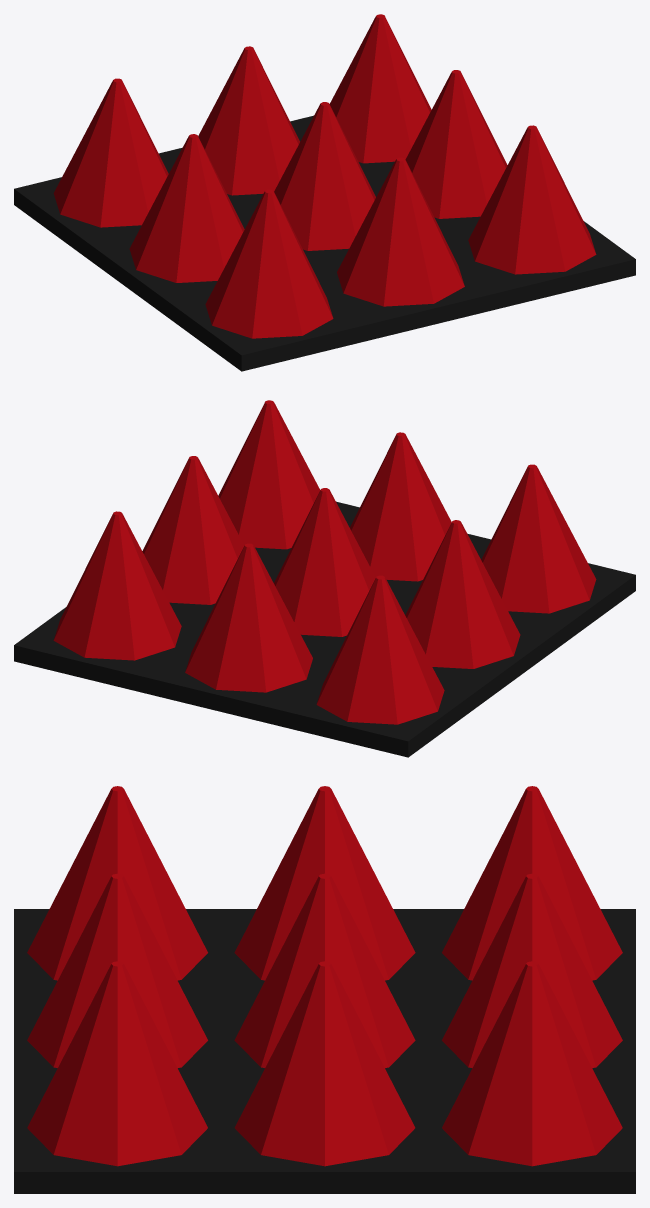
Rendered from spike.fbx.
3 renders of one model, top to bottom at view 1: azimuth 30°, elevation 25°; view 2: azimuth 150°, elevation 25°; view 3: azimuth 270°, elevation 25°, orthographic. The views are drawn at different scales.
Visible parts, largest first — view 1: Cylinder.007, Cylinder.008, Cylinder.006, Cylinder.003, Cylinder, Cylinder.005, Cylinder.004, Cylinder.001, Cylinder.002, Cube.006, Cube.008, Cube.007 (+6 smaller); view 2: Cylinder.001, Cylinder.002, Cylinder, Cylinder.003, Cylinder.006, Cylinder.005, Cylinder.004, Cylinder.007, Cylinder.008, Cube, Cube.002, Cube.001 (+6 smaller); view 3: Cylinder.005, Cylinder.002, Cylinder.008, Cylinder.001, Cylinder.007, Cylinder, Cylinder.006, Cylinder.003, Cylinder.004, Cube.005, Cube.002, Cube.008 (+6 smaller).
Boxes of the visible parts, bbox=[...] form: Cylinder.007: bbox=[337, 157, 464, 306]; Cylinder.008: bbox=[468, 125, 596, 274]; Cylinder.006: bbox=[205, 189, 333, 338]; Cylinder.003: bbox=[129, 134, 244, 282]; Cylinder: bbox=[53, 78, 168, 227]; Cylinder.005: bbox=[405, 70, 507, 218]; Cylinder.004: bbox=[274, 102, 375, 250]; Cylinder.001: bbox=[198, 46, 299, 195]; Cylinder.002: bbox=[329, 14, 431, 163]; Cube.006: bbox=[165, 285, 372, 371]; Cube.008: bbox=[442, 221, 635, 307]; Cube.007: bbox=[311, 253, 504, 339]; Cylinder.001: bbox=[185, 543, 312, 692]; Cylinder.002: bbox=[53, 511, 181, 660]; Cylinder: bbox=[316, 575, 444, 724]; Cylinder.003: bbox=[405, 520, 520, 668]; Cylinder.006: bbox=[481, 464, 596, 613]; Cylinder.005: bbox=[142, 456, 244, 604]; Cylinder.004: bbox=[274, 488, 375, 636]; Cylinder.007: bbox=[350, 432, 451, 581]; Cylinder.008: bbox=[218, 400, 320, 549]; Cube: bbox=[277, 671, 484, 757]; Cube.002: bbox=[14, 607, 207, 693]; Cube.001: bbox=[145, 639, 338, 725]; Cylinder.005: bbox=[234, 961, 415, 1166]; Cylinder.002: bbox=[442, 961, 622, 1166]; Cylinder.008: bbox=[27, 961, 207, 1166]; Cylinder.001: bbox=[442, 873, 622, 1067]; Cylinder.007: bbox=[27, 873, 207, 1067]; Cylinder: bbox=[442, 786, 622, 980]; Cylinder.006: bbox=[27, 786, 207, 980]; Cylinder.003: bbox=[234, 786, 415, 980]; Cylinder.004: bbox=[234, 873, 415, 1067]; Cube.005: bbox=[221, 1084, 428, 1193]; Cube.002: bbox=[428, 1084, 635, 1193]; Cube.008: bbox=[14, 1084, 221, 1193].
Size of the model in its own units: 681 by 225 by 681.
